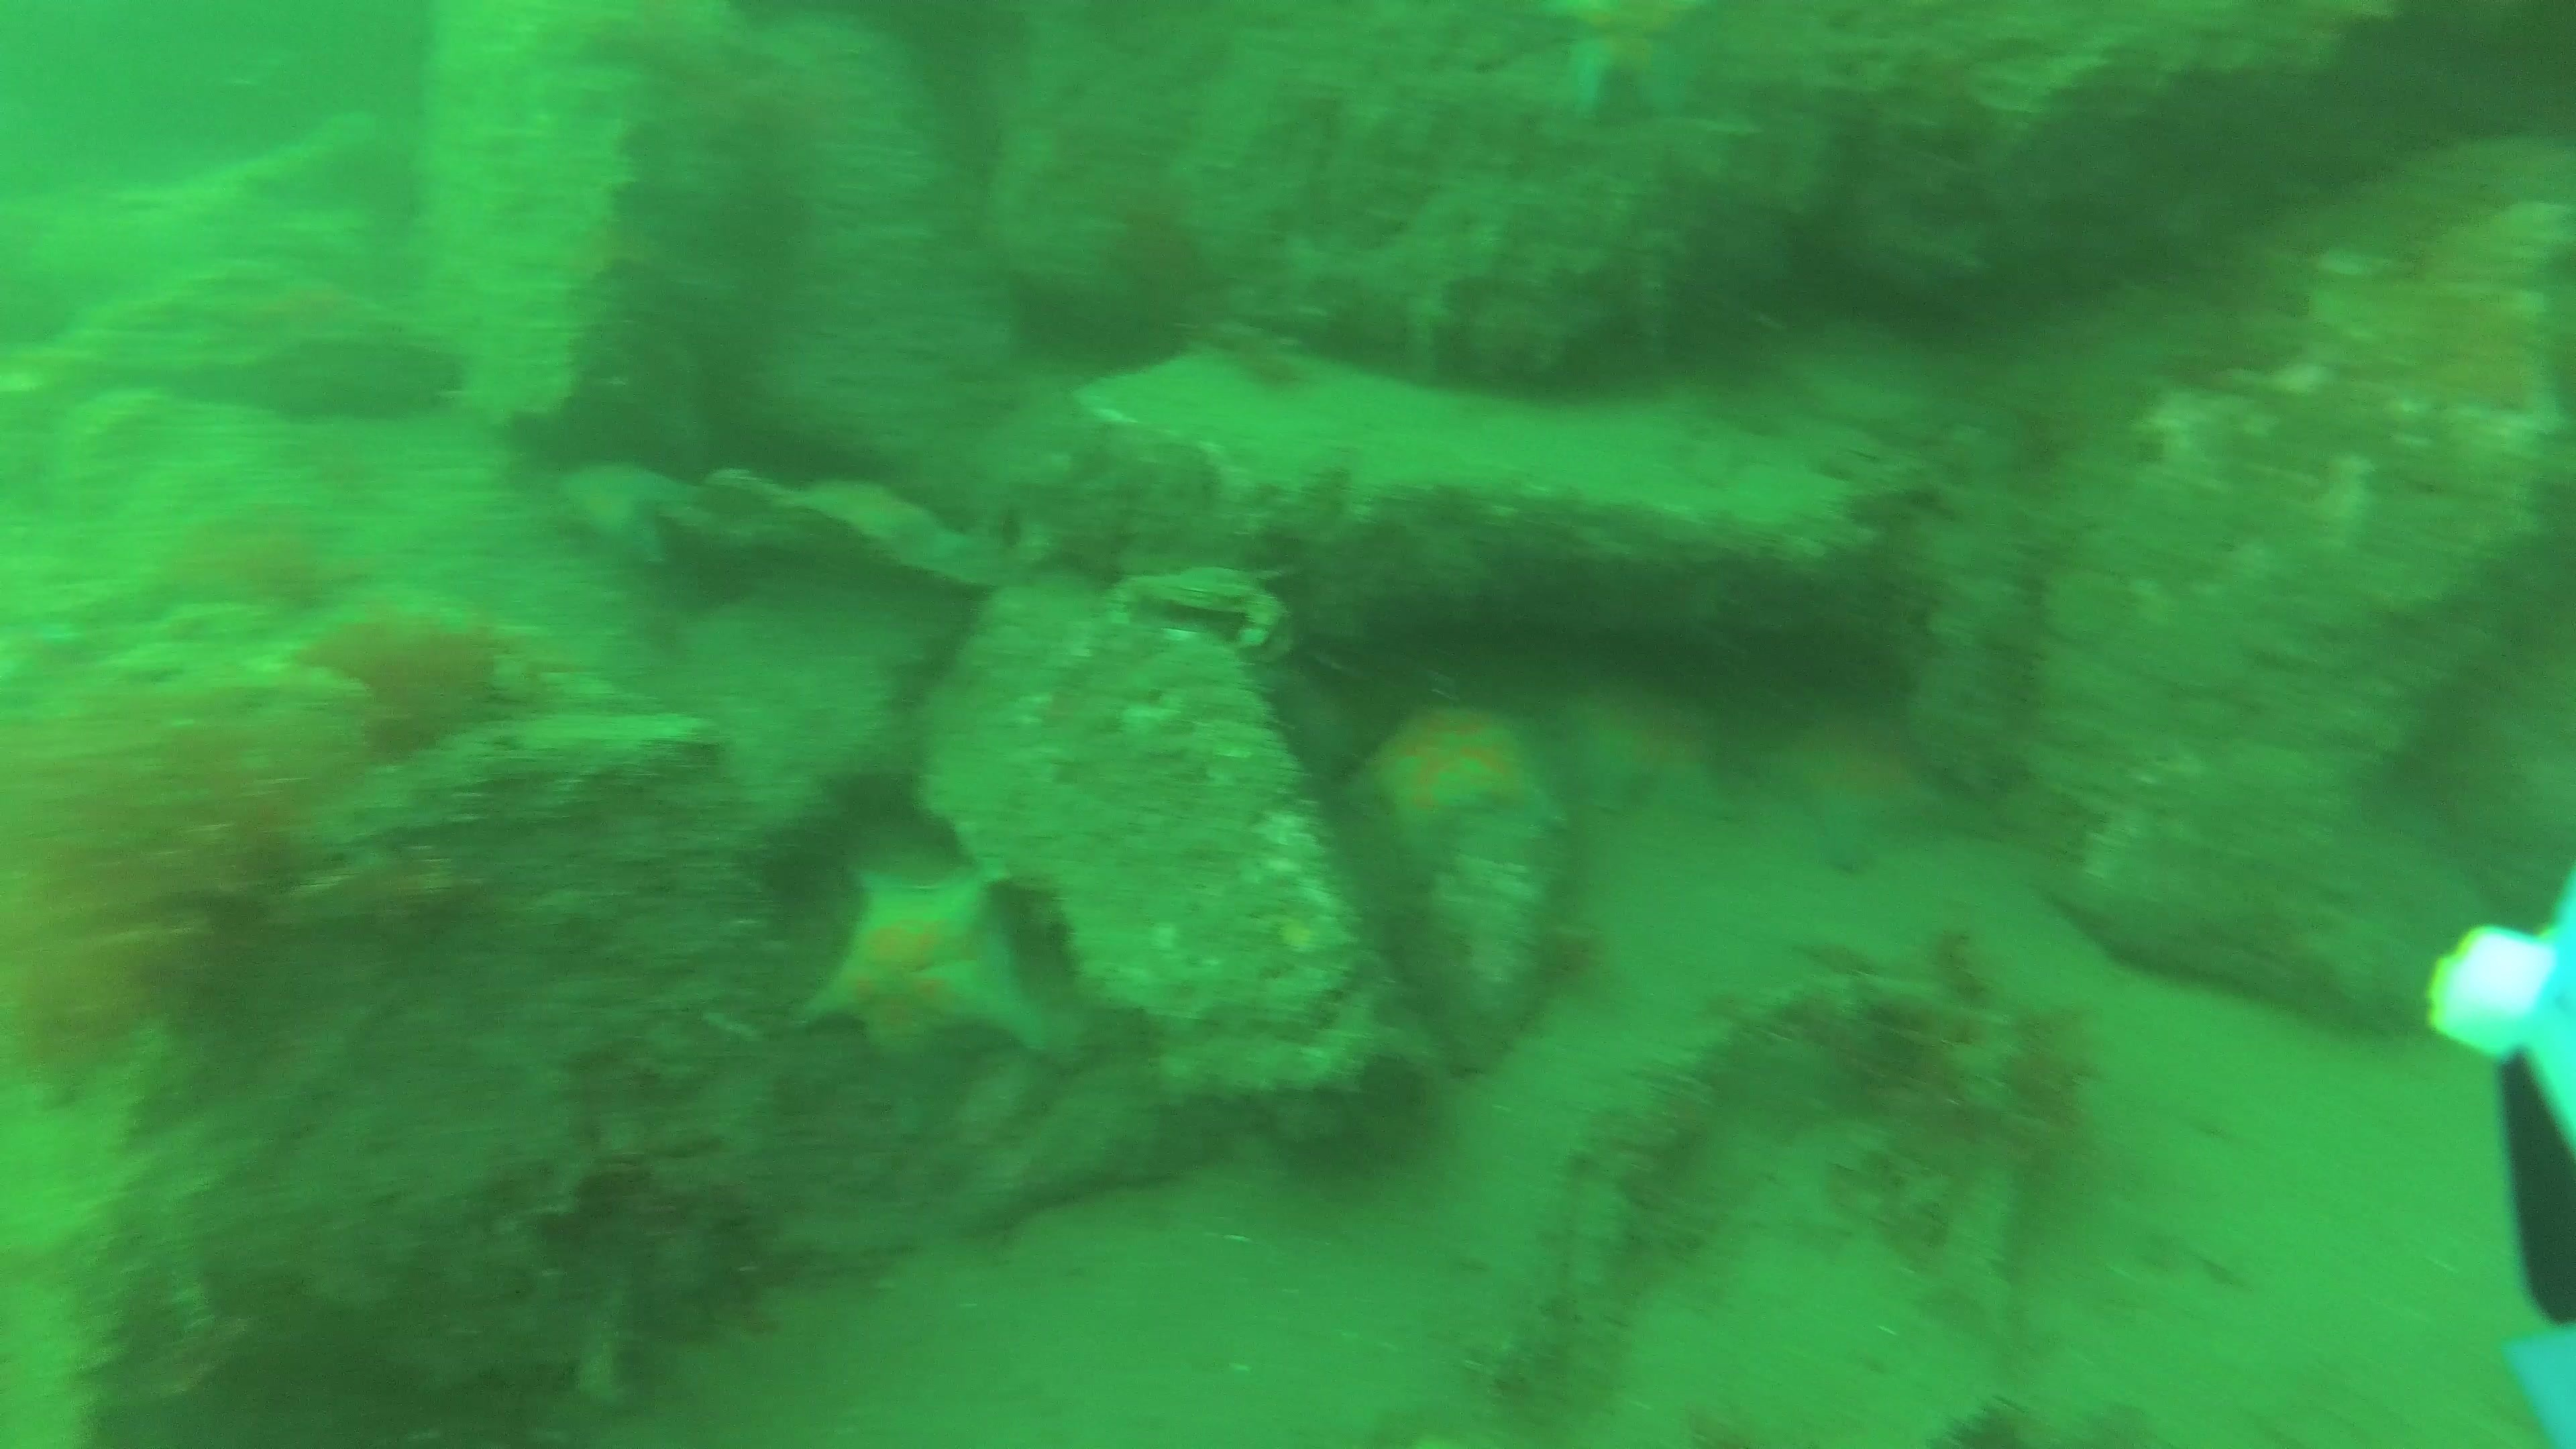starfish: (780, 862, 1053, 1079), (711, 458, 996, 605), (1338, 701, 1560, 867), (1534, 5, 1757, 172), (1780, 713, 1996, 878), (1566, 676, 1732, 826), (552, 458, 692, 573)
